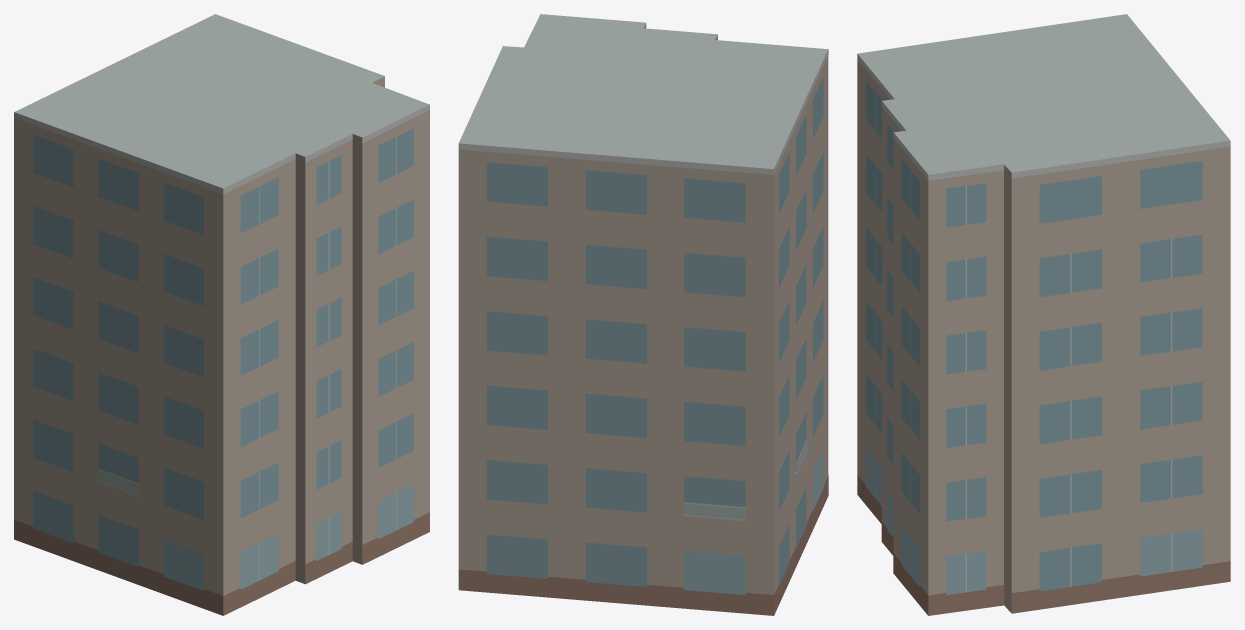
The model's file is survey-upis-32991262.glb.
3 views of the same model, side by side, from view 1: azimuth 30°, elevation 25°; view 2: azimuth 150°, elevation 25°; view 3: azimuth 270°, elevation 25° (orthographic). The views are drawn at different scales.
Visible parts, largest first — view 1: survey-upis-32991262.tmp; view 2: survey-upis-32991262.tmp; view 3: survey-upis-32991262.tmp.
Boxes of the visible parts, x1,y1,x2,y2 form: survey-upis-32991262.tmp: (14, 14, 429, 615); survey-upis-32991262.tmp: (458, 14, 828, 615); survey-upis-32991262.tmp: (857, 14, 1230, 615).
Size of the model in its own units: 14.25 by 18.2 by 13.97.
